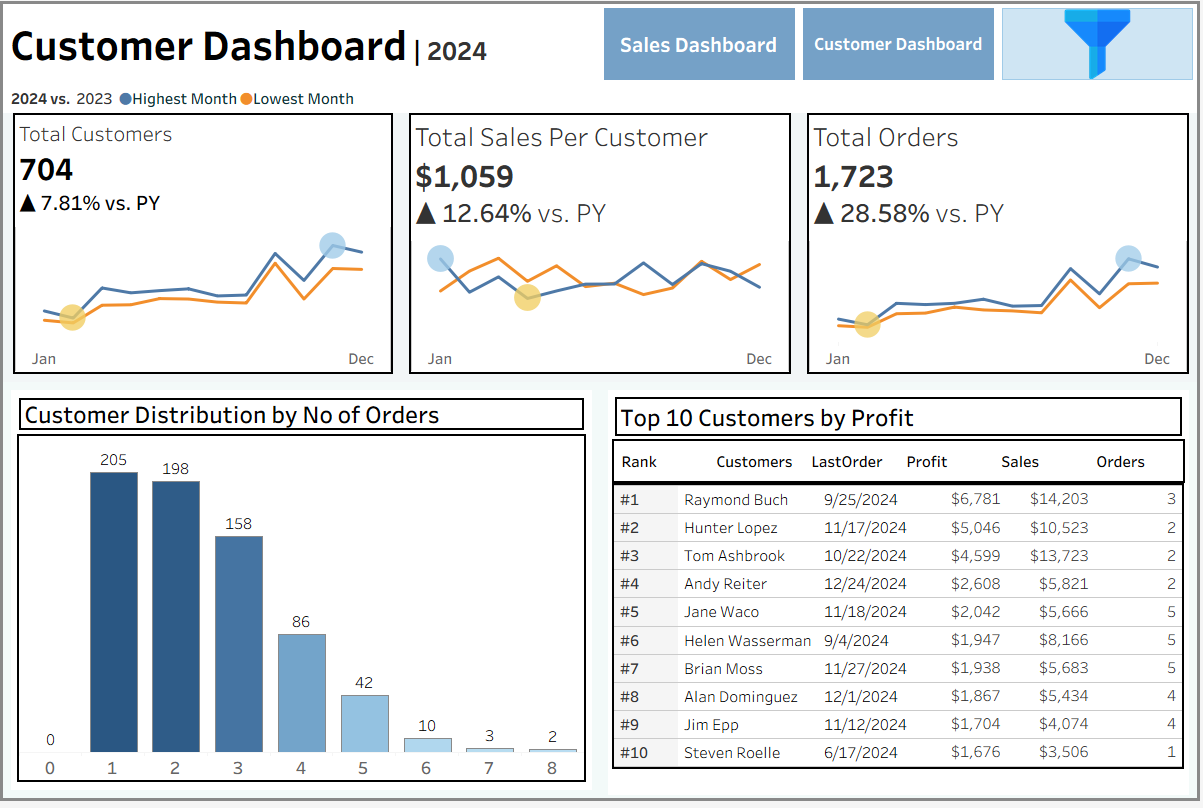

What the dashboard file says about the page in this screenshot:
{"tool":"tableau","page":{"name":"customer dash","canvas":[1200,800],"ordinal":1},"visuals":[{"type":"text","box":[3,3,597,80]},{"type":"dashboard-object","box":[600,3,199,80]},{"type":"dashboard-object","box":[799,3,199,80]},{"type":"dashboard-object","box":[998,3,199,80]},{"type":"worksheet","title":"Leg KPI","mark":"Automatic","box":[3,83,1194,29]},{"type":"blank","box":[955,84,234,38]},{"type":"worksheet","title":"kpi_cust","mark":"Automatic","rows":["Calculation_2938470865874951"],"cols":["Order Date"],"box":[3,112,398,269]},{"type":"worksheet","title":"kpi_custpersales","mark":"Line","rows":["Calculation_2938470865571846"],"cols":["Order Date"],"box":[401,112,398,269]},{"type":"worksheet","title":"kpi orders","mark":"Automatic","rows":["Calculation_2938470897258515"],"cols":["Order Date"],"box":[799,112,398,269]},{"type":"text","box":[955,122,234,35]},{"type":"parameter","param":"[Parameters].[Parameter 1]","box":[955,157,234,56]},{"type":"blank","box":[955,213,234,77]},{"type":"text","box":[955,290,234,29]},{"type":"filter","title":"Leg KPI","param":"[federated.041cgny0teb3ck15wfer41h6zowy].[none:Category:nk]","box":[955,319,234,61]},{"type":"filter","title":"Leg KPI","param":"[federated.041cgny0teb3ck15wfer41h6zowy].[none:Sub-Category:nk]","box":[955,380,234,61]},{"type":"text","box":[15,393,573,40]},{"type":"text","box":[612,393,573,45]},{"type":"worksheet","title":"cust dist","mark":"Bar","rows":["CY_Profit (copy)_2938470860316672"],"cols":["Calculation_2938470896197648"],"box":[15,433,573,352]},{"type":"text","box":[614,440,95,40]},{"type":"text","box":[709,440,95,40]},{"type":"text","box":[804,440,95,40]},{"type":"text","box":[899,440,95,40]},{"type":"text","box":[994,440,95,40]},{"type":"text","box":[1089,440,94,40]},{"type":"text","box":[955,441,234,29]},{"type":"filter","title":"Leg KPI","param":"[federated.041cgny0teb3ck15wfer41h6zowy].[none:Region:nk]","box":[955,470,234,61]},{"type":"worksheet","title":"top cust","mark":"Automatic","rows":["Calculation_2938470910459928","Customer Name","Order Date"],"box":[612,482,573,297]},{"type":"filter","title":"Leg KPI","param":"[federated.041cgny0teb3ck15wfer41h6zowy].[none:State/Province:nk]","box":[955,531,234,61]},{"type":"filter","title":"Leg KPI","param":"[federated.041cgny0teb3ck15wfer41h6zowy].[none:City:nk]","box":[955,592,234,61]}]}

Visuals, with their boxes in screenshot pixels (x1, y1, x2, y2), scaled from the page's 1200x800 canvas onto the 1203x808 screenshot:
text: (x1=3, y1=3, x2=602, y2=84)
dashboard-object: (x1=602, y1=3, x2=801, y2=84)
dashboard-object: (x1=801, y1=3, x2=1000, y2=84)
dashboard-object: (x1=1000, y1=3, x2=1200, y2=84)
"Leg KPI" worksheet: (x1=3, y1=84, x2=1200, y2=113)
blank: (x1=957, y1=85, x2=1192, y2=123)
"kpi_cust" worksheet: (x1=3, y1=113, x2=402, y2=385)
"kpi_custpersales" worksheet (Line marks): (x1=402, y1=113, x2=801, y2=385)
"kpi orders" worksheet: (x1=801, y1=113, x2=1200, y2=385)
text: (x1=957, y1=123, x2=1192, y2=159)
parameter: (x1=957, y1=159, x2=1192, y2=215)
blank: (x1=957, y1=215, x2=1192, y2=293)
text: (x1=957, y1=293, x2=1192, y2=322)
"Leg KPI" filter: (x1=957, y1=322, x2=1192, y2=384)
"Leg KPI" filter: (x1=957, y1=384, x2=1192, y2=445)
text: (x1=15, y1=397, x2=589, y2=437)
text: (x1=614, y1=397, x2=1188, y2=442)
"cust dist" worksheet (Bar marks): (x1=15, y1=437, x2=589, y2=793)
text: (x1=616, y1=444, x2=711, y2=485)
text: (x1=711, y1=444, x2=806, y2=485)
text: (x1=806, y1=444, x2=901, y2=485)
text: (x1=901, y1=444, x2=996, y2=485)
text: (x1=996, y1=444, x2=1092, y2=485)
text: (x1=1092, y1=444, x2=1186, y2=485)
text: (x1=957, y1=445, x2=1192, y2=475)
"Leg KPI" filter: (x1=957, y1=475, x2=1192, y2=536)
"top cust" worksheet: (x1=614, y1=487, x2=1188, y2=787)
"Leg KPI" filter: (x1=957, y1=536, x2=1192, y2=598)
"Leg KPI" filter: (x1=957, y1=598, x2=1192, y2=660)
